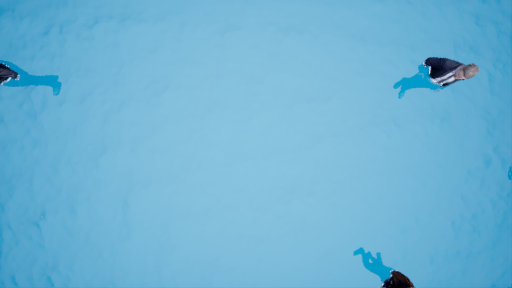person: (396, 50, 479, 108), (344, 239, 424, 288), (1, 56, 65, 100)
